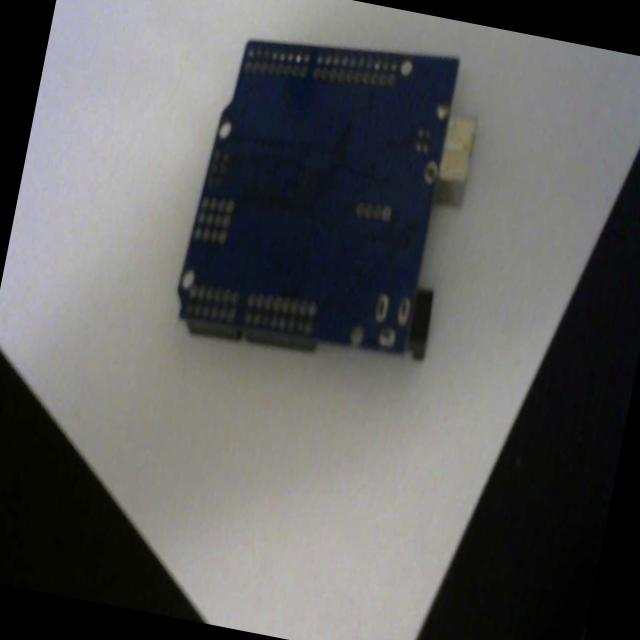arduino: (166, 21, 491, 382)
